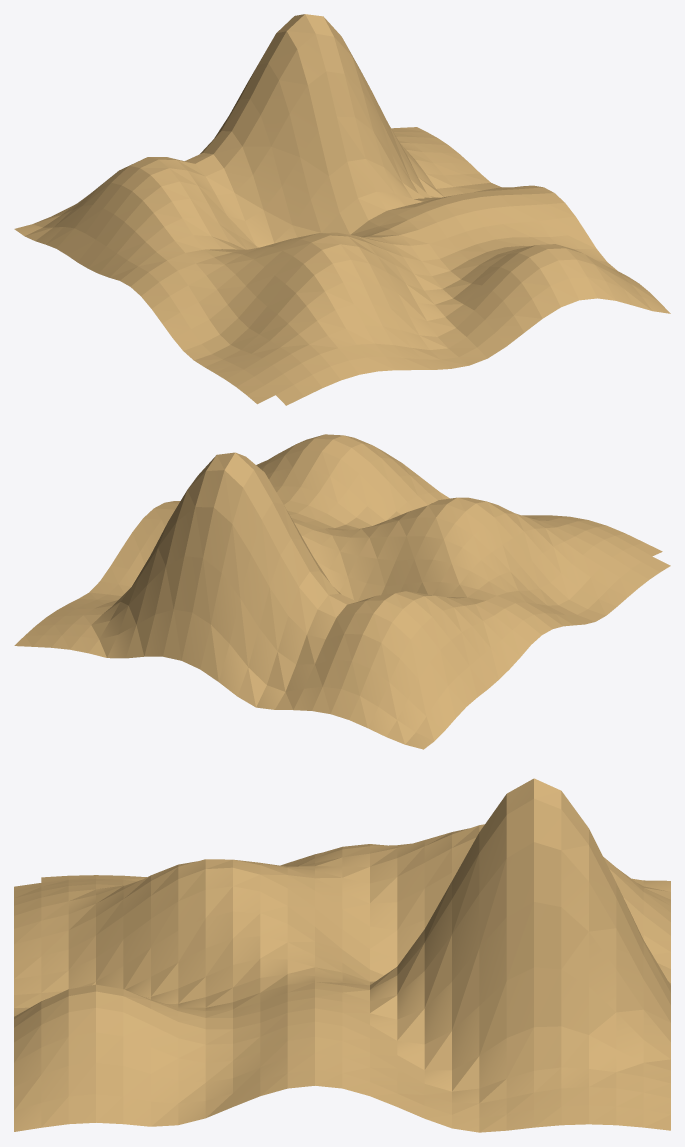
File: arena.fbx
3 views of the same model, one above another, from view 1: azimuth 30°, elevation 25°; view 2: azimuth 150°, elevation 25°; view 3: azimuth 270°, elevation 25° (orthographic). The views are drawn at different scales.
Visible parts, largest first — view 1: Group2; view 2: Group2; view 3: Group2.
Part boxes in pixels (bbox=[...]): Group2: bbox=[14, 14, 670, 405]; Group2: bbox=[14, 434, 670, 749]; Group2: bbox=[14, 778, 670, 1132].
Size of the model in its own units: 5940 by 2753 by 6480.
